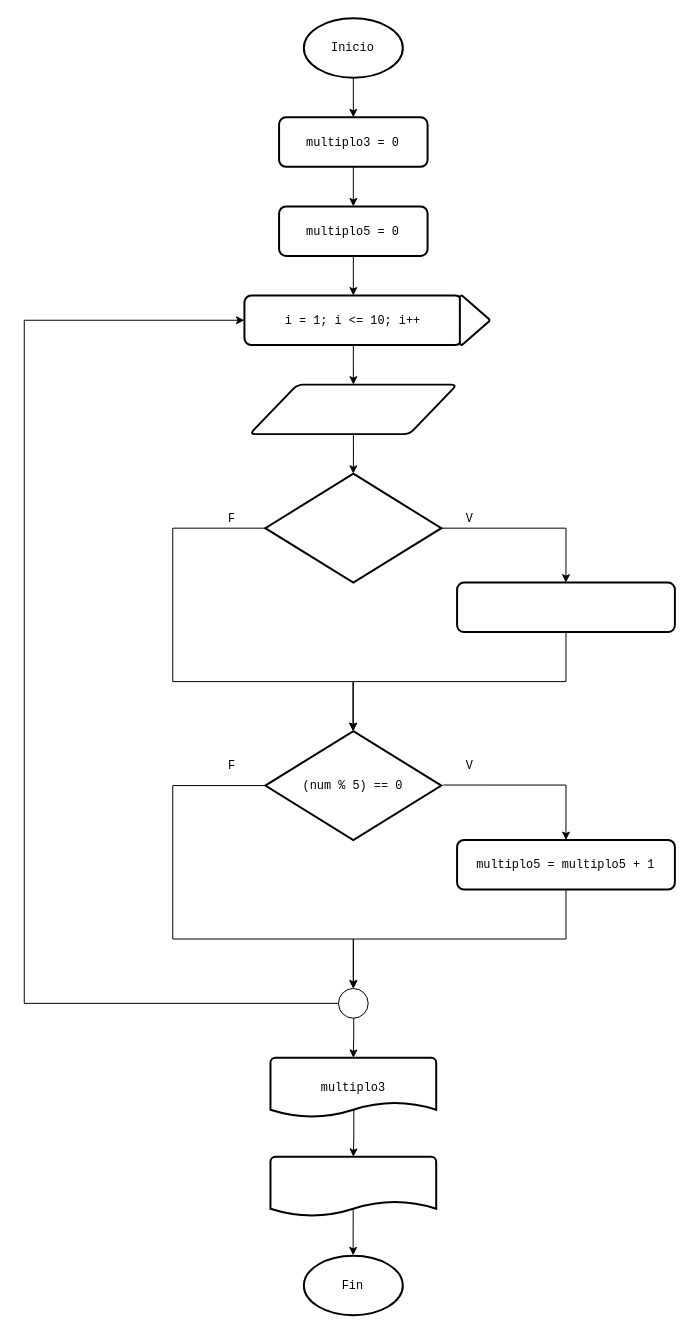
This 693x1333 diagram has some shape labels left out. The centre of each missing label's shape, as x and y in pixels:
"(num % 3) == 0" belongs at point (353, 527).
"multiplo3 = multiplo3 + 1" belongs at point (565, 607).
"multiplo5" belongs at point (353, 1186).
"num" belongs at point (353, 409).
